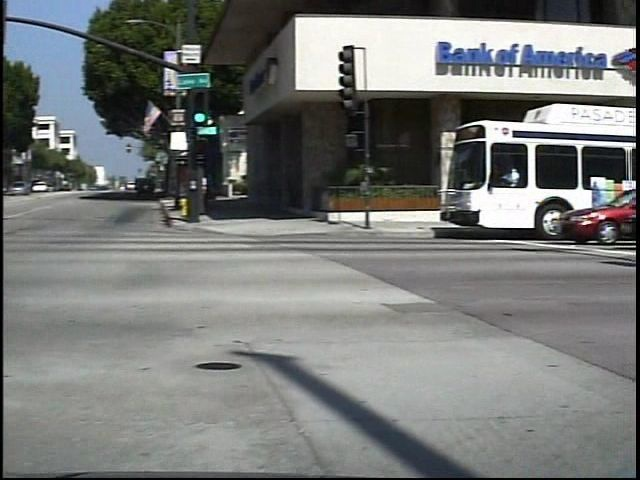person: (205, 167, 228, 217)
